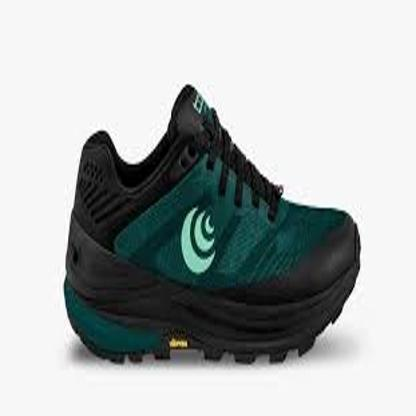not trash: (68, 84, 362, 364)
